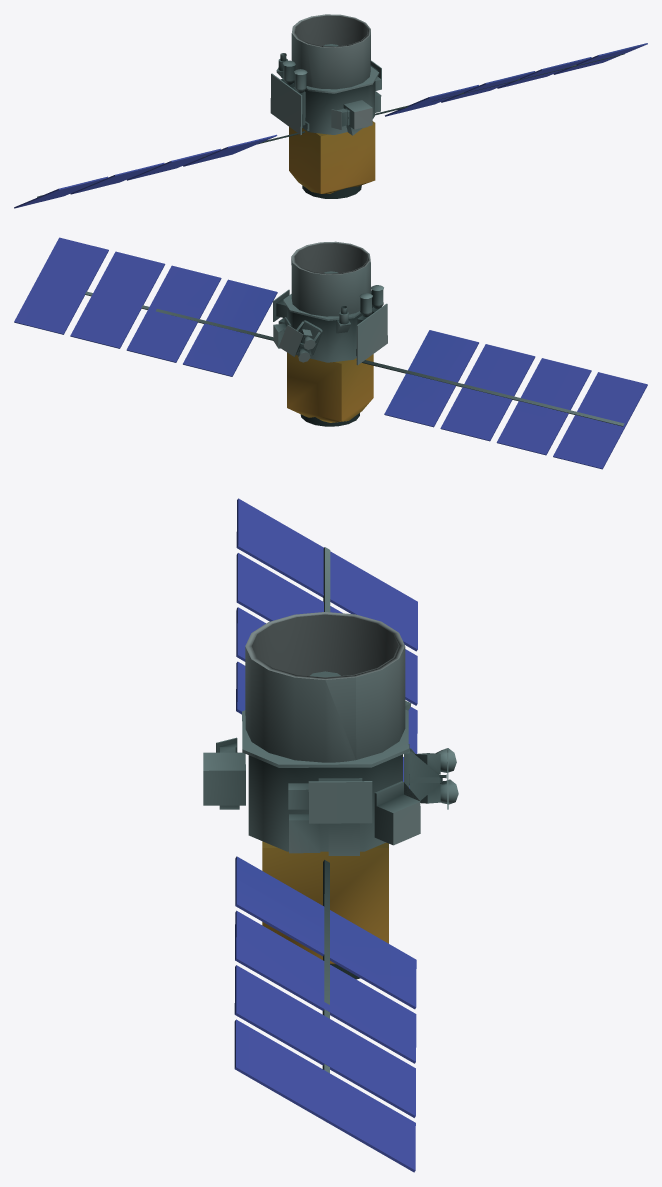
Rendered from space-satellites-satellite_v2.fbx.
3 renders of one model, top to bottom at view 1: azimuth 30°, elevation 25°; view 2: azimuth 150°, elevation 25°; view 3: azimuth 270°, elevation 25°, orthographic. The views are drawn at different scales.
Visible parts, largest first — view 1: Satellite_v2; view 2: Satellite_v2; view 3: Satellite_v2.
Boxes of the visible parts, x1=… form: Satellite_v2: x1=14, y1=14, x2=647, y2=208; Satellite_v2: x1=14, y1=237, x2=647, y2=469; Satellite_v2: x1=203, y1=498, x2=458, y2=1172.
Bounding box in the file's own units: 8 × 2.02 × 1.5.
